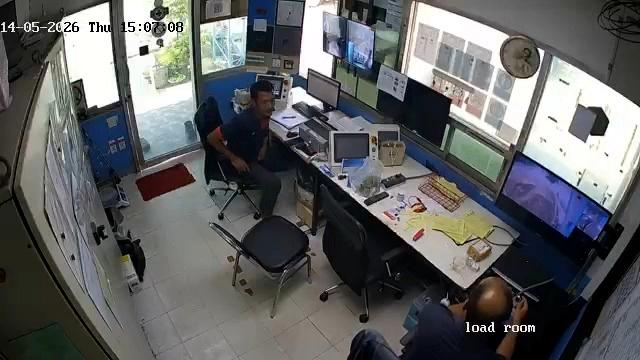Head: (462, 277, 511, 330), (250, 83, 275, 116)
People: (346, 276, 529, 360), (206, 81, 281, 212)
